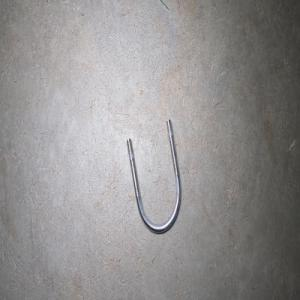ClampPart: (126, 118, 181, 234)
